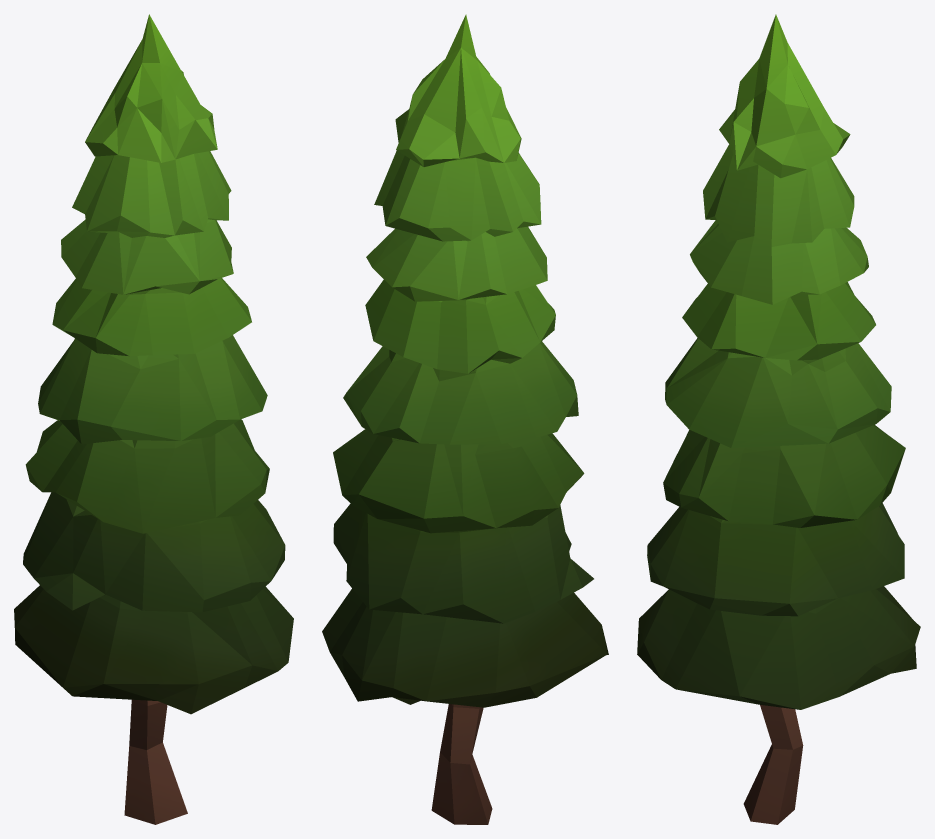
File: INSTANCE_FIR_WOOD.glb
The picture shows the model from 3 angles, left to right: view 1: azimuth 30°, elevation 25°; view 2: azimuth 150°, elevation 25°; view 3: azimuth 270°, elevation 25°; orthographic projection.
Parts seen in each view (by area): view 1: Fir_Wood; view 2: Fir_Wood; view 3: Fir_Wood.
Boxes of the visible parts, box(x1,y1,x2,y2) form: Fir_Wood: box(14, 14, 293, 824); Fir_Wood: box(322, 14, 608, 824); Fir_Wood: box(637, 14, 920, 824).
Bounding box in the file's own units: 0.3339 × 1.04 × 0.3381.
Materials: 1 (1 with a texture image).
